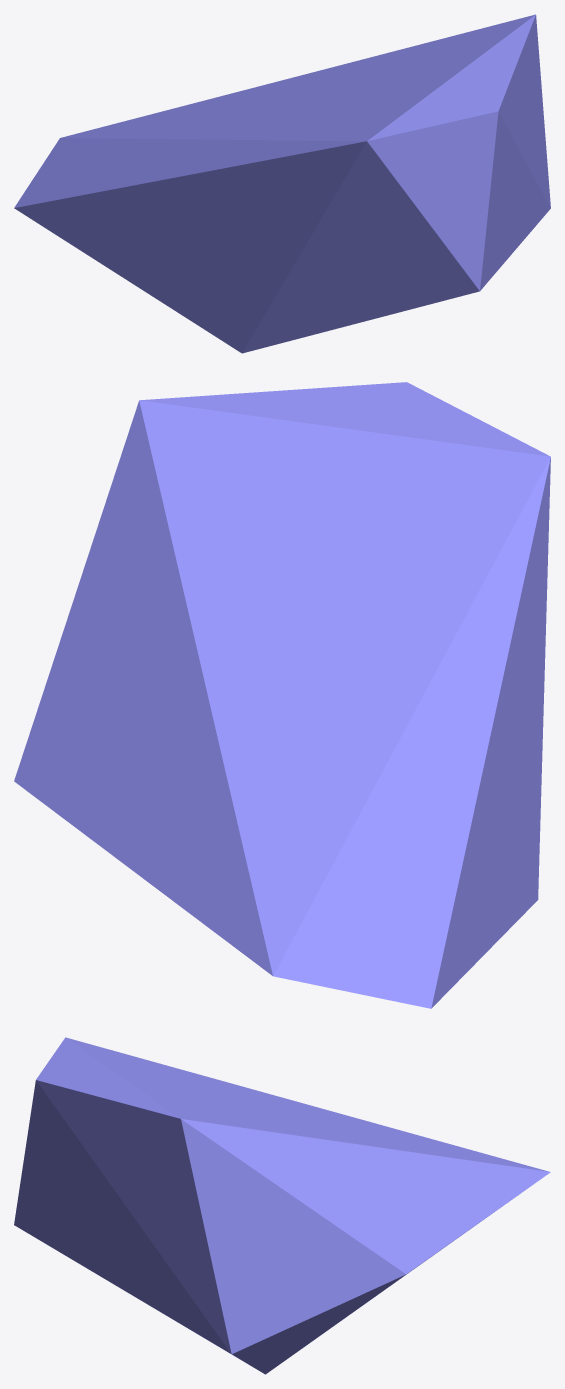
File: Rock_14_Collider_01.FBX
3 views of the same model, one above another, from view 1: azimuth 30°, elevation 25°; view 2: azimuth 150°, elevation 25°; view 3: azimuth 270°, elevation 25° (orthographic). The views are drawn at different scales.
Visible parts, largest first — view 1: COLLIDER1; view 2: COLLIDER1; view 3: COLLIDER1.
Boxes of the visible parts, left/top/right/bottom form: COLLIDER1: left=14, top=14, right=550, bottom=353; COLLIDER1: left=14, top=382, right=550, bottom=1008; COLLIDER1: left=14, top=1037, right=550, bottom=1374.
Size of the model in its own units: 25.7 by 16.88 by 30.53.
